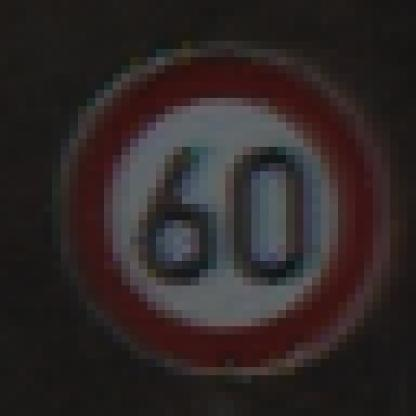Speed Limit 60: (66, 47, 383, 371)
